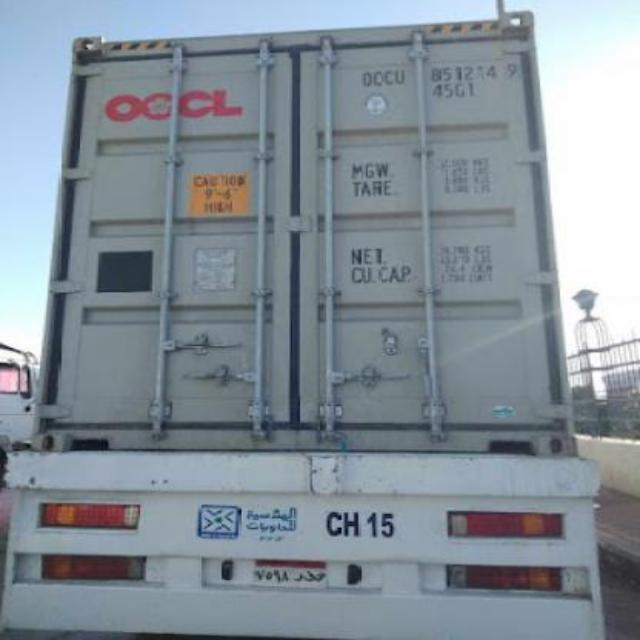1: (474, 62, 488, 84), (452, 64, 466, 84)
2: (462, 65, 474, 81)
4: (486, 62, 498, 82)
5: (441, 64, 454, 86)
8: (430, 64, 442, 86)
9: (506, 64, 520, 80)
C: (384, 69, 394, 85)
D: (360, 70, 372, 86)
O: (374, 70, 384, 88)
U: (394, 68, 406, 90)
